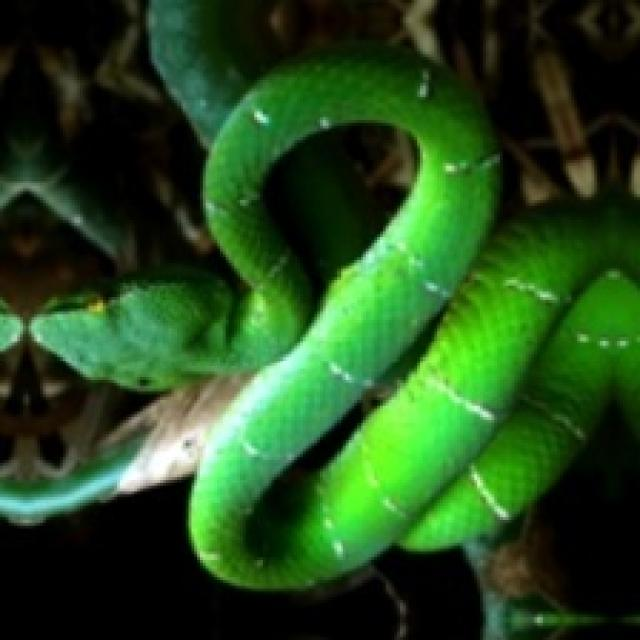north ph temple pitviper: (32, 49, 640, 589)
